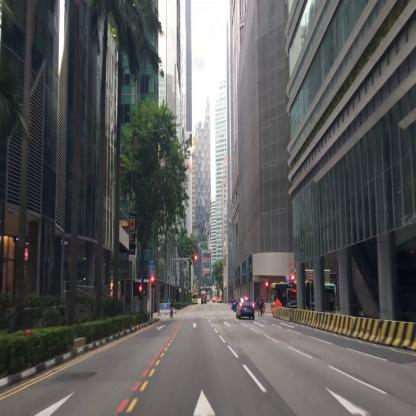red_traffic_light: (150, 277, 154, 288), (292, 276, 295, 288), (191, 256, 197, 260)
